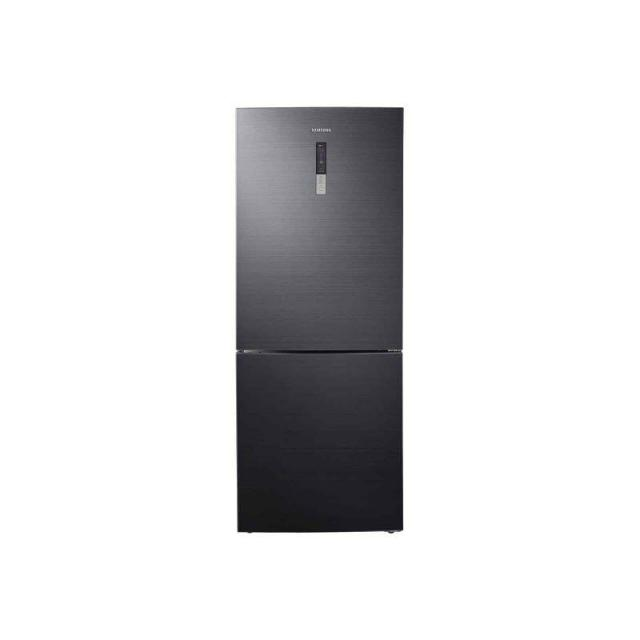refrigerator: (233, 106, 402, 533)
